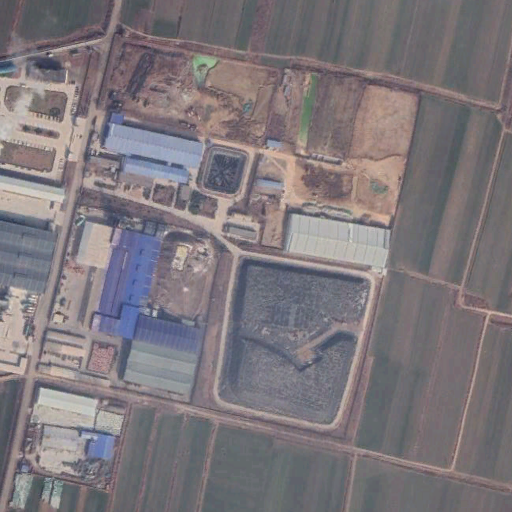lf: (214, 255, 375, 433)
